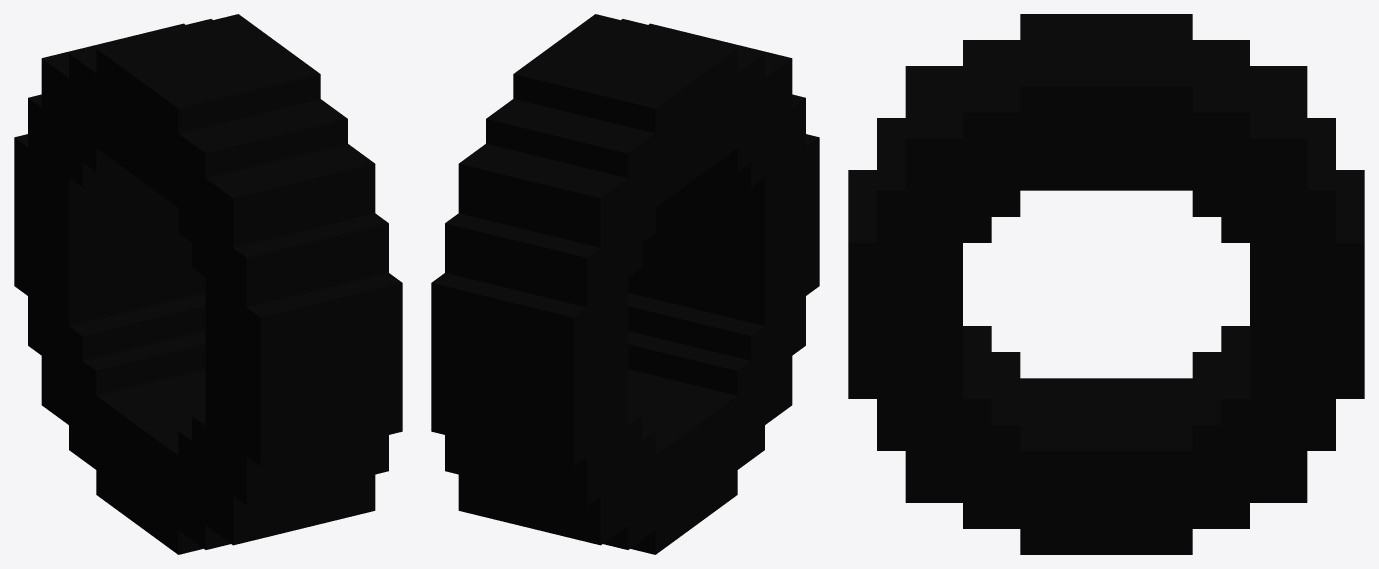
The model's file is tire.vox.obj.
3 renders of one model, left to right at view 1: azimuth 30°, elevation 25°; view 2: azimuth 150°, elevation 25°; view 3: azimuth 270°, elevation 25°, orthographic. The views are drawn at different scales.
Size of the model in its own units: 0.6 by 1.8 by 1.8.
1 material, 1 textured.
